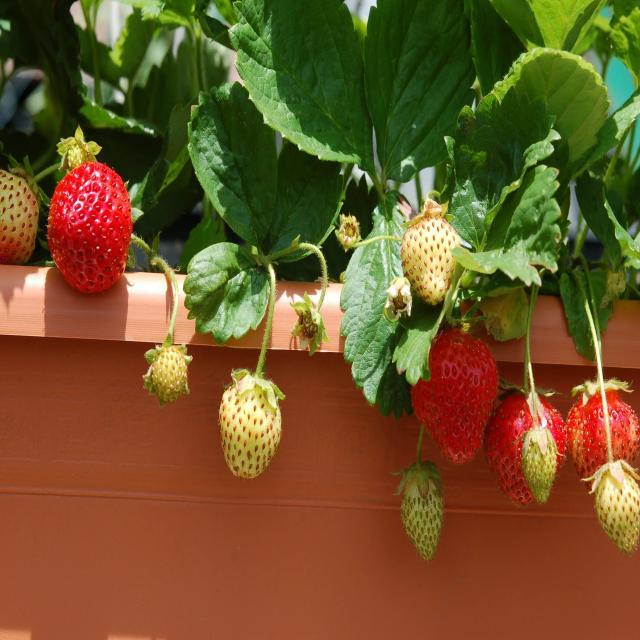ripe: (406, 318, 496, 460), (47, 158, 130, 296), (484, 386, 568, 504), (559, 375, 640, 482)
